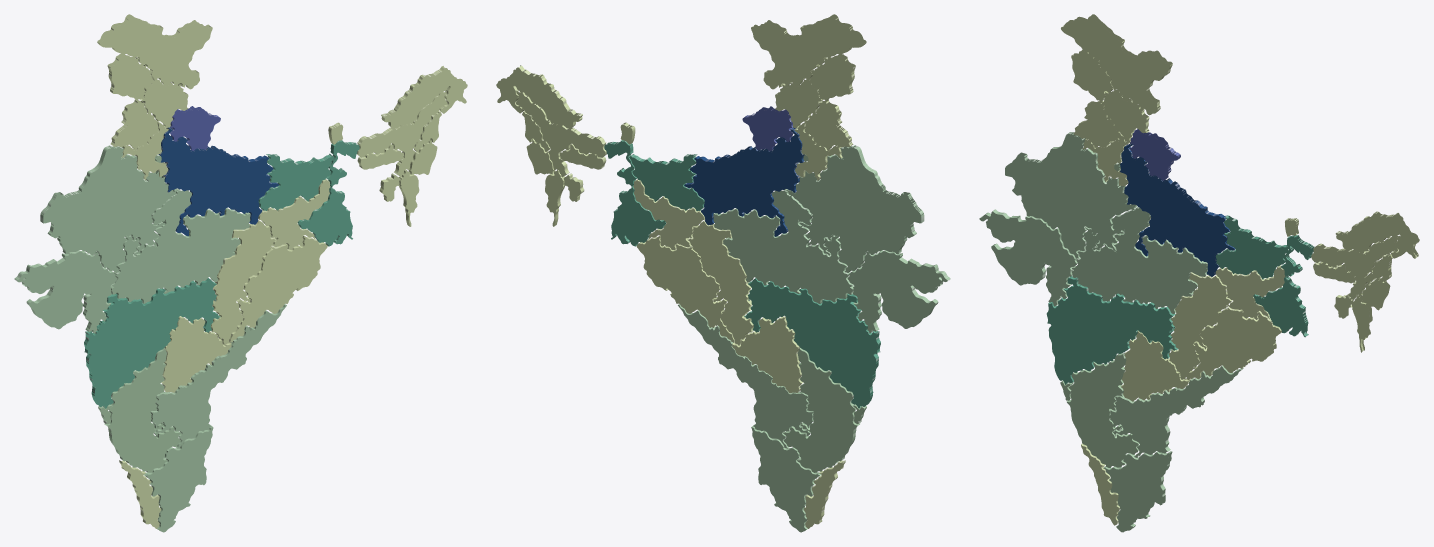
File: main_single_map.fbx
3 renders of one model, left to right at view 1: azimuth 30°, elevation 25°; view 2: azimuth 150°, elevation 25°; view 3: azimuth 330°, elevation 25°, orthographic. The views are drawn at different scales.
Visible parts, largest first — view 1: main_india_map; view 2: main_india_map; view 3: main_india_map.
Part boxes in pixels (bbox=[...]): main_india_map: bbox=[14, 14, 467, 532]; main_india_map: bbox=[496, 14, 950, 532]; main_india_map: bbox=[979, 14, 1419, 532].
Size of the model in its own units: 8.99 by 10 by 0.131.
Materials: 1 (1 with a texture image).
